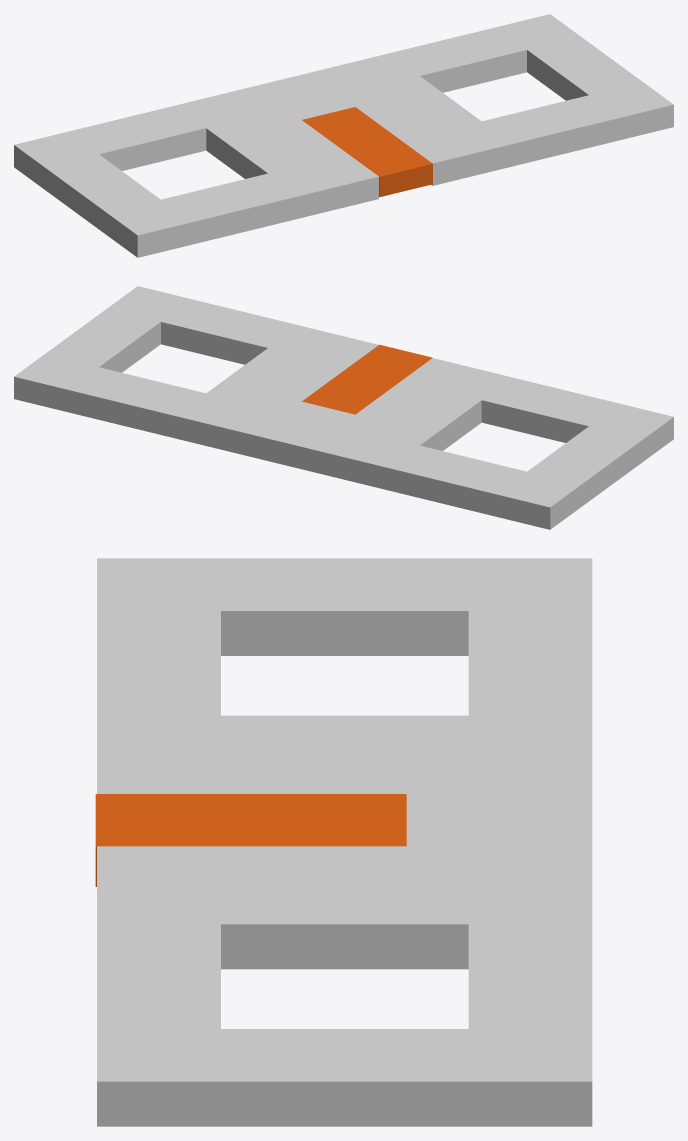
File: Wall_Front.fbx
3 views of the same model, one above another, from view 1: azimuth 30°, elevation 25°; view 2: azimuth 150°, elevation 25°; view 3: azimuth 270°, elevation 25° (orthographic). The views are drawn at different scales.
Parts seen in each view (by area): view 1: Plane, Cube; view 2: Plane, Cube; view 3: Plane, Cube.
Part boxes in pixels (left/top/right/bottom): Plane: left=14, top=14, right=673, bottom=257; Cube: left=302, top=107, right=432, bottom=197; Plane: left=14, top=286, right=673, bottom=529; Cube: left=302, top=344, right=432, bottom=414; Plane: left=97, top=558, right=592, bottom=1126; Cube: left=95, top=794, right=406, bottom=886.
Bounding box in the file's own units: 2000 × 80 × 802.
